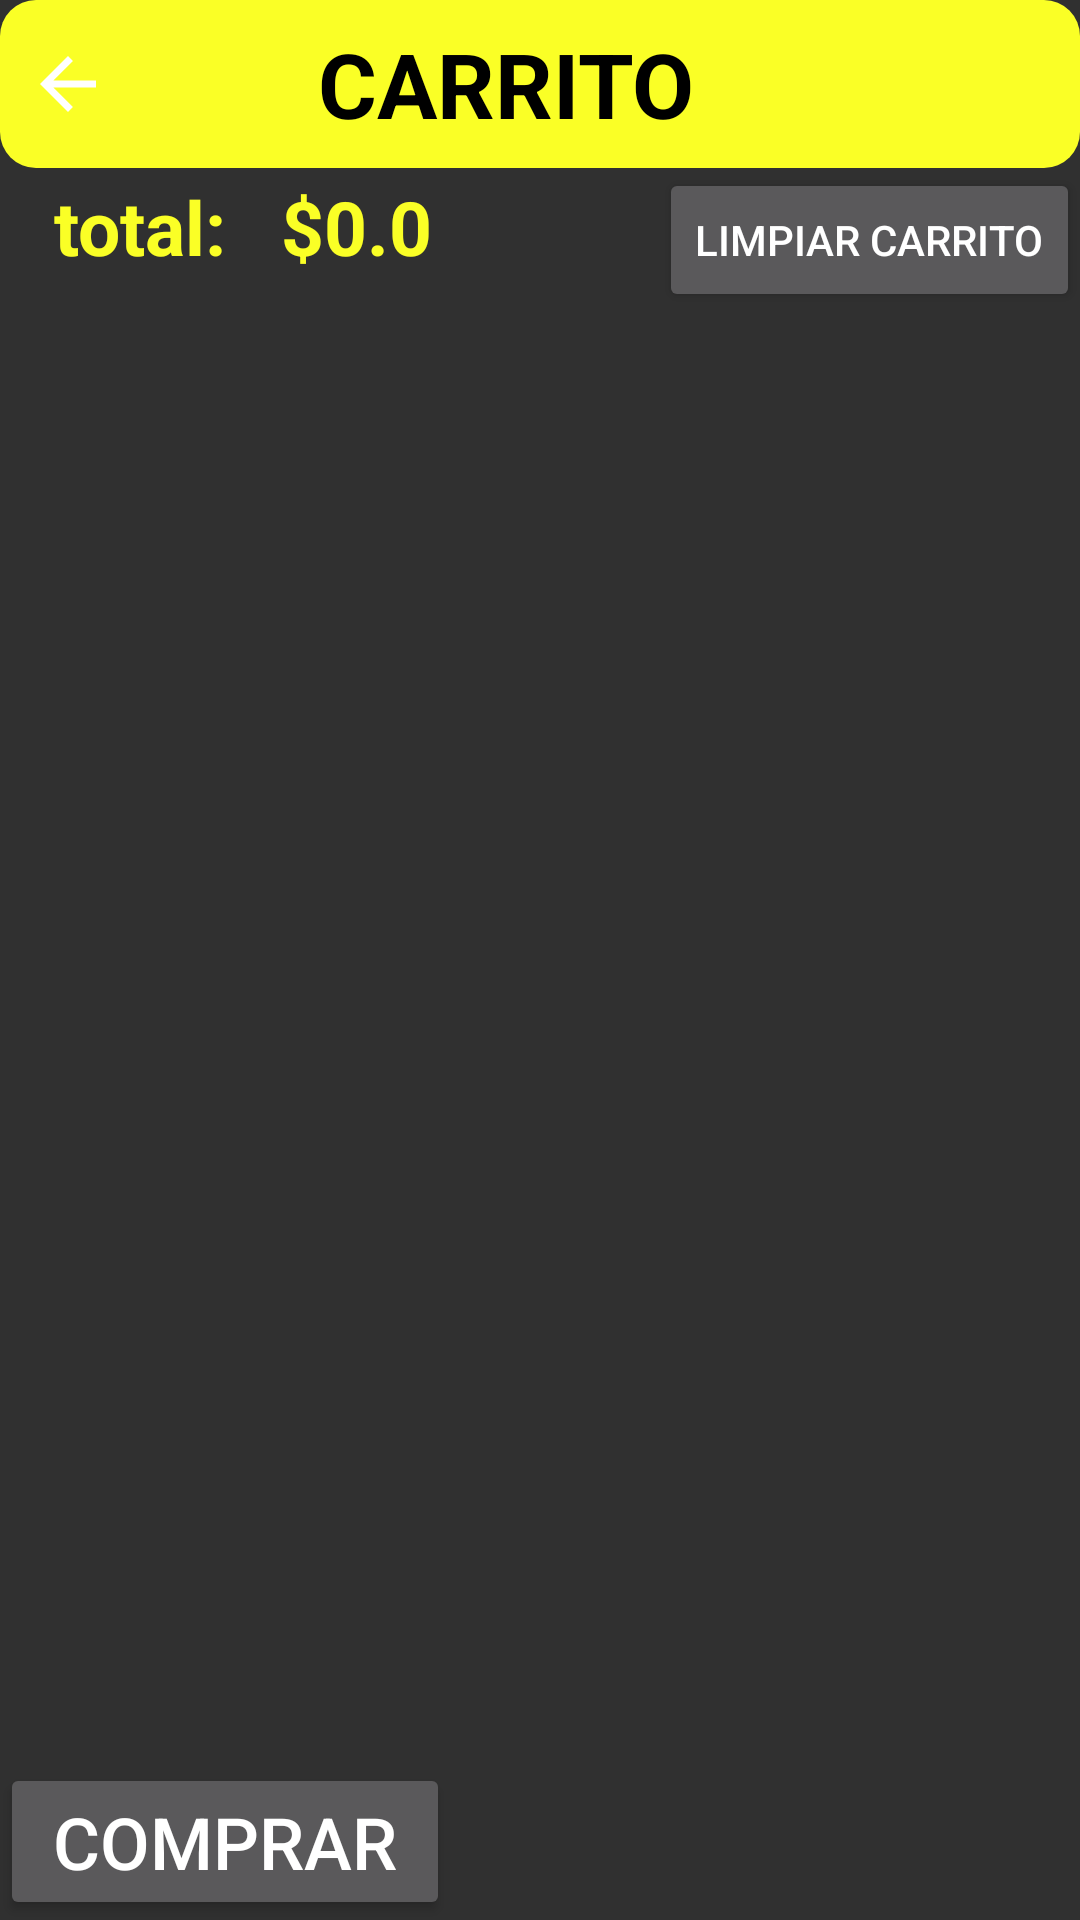

Named icons in this screenshot (1080x1920) and their bounding boxes, box=[x1, y1, x2, y2]:
arrow back: box=[40, 56, 96, 112]
